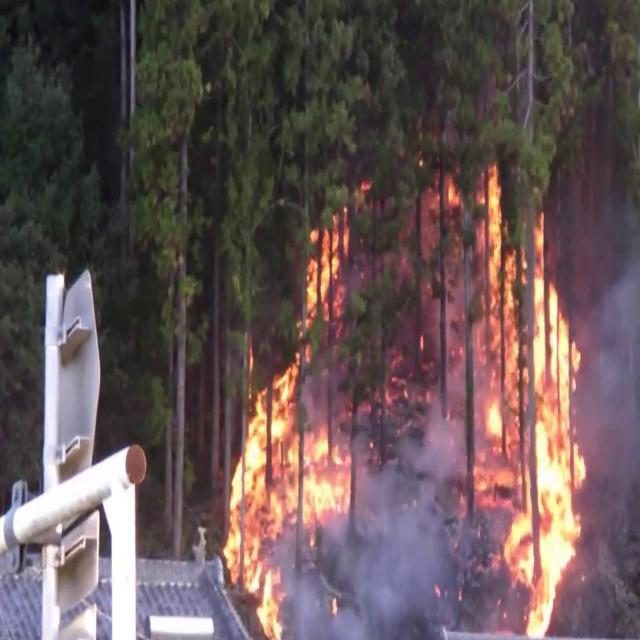Fire: (471, 163, 596, 637), (223, 206, 351, 638), (447, 184, 457, 203)
